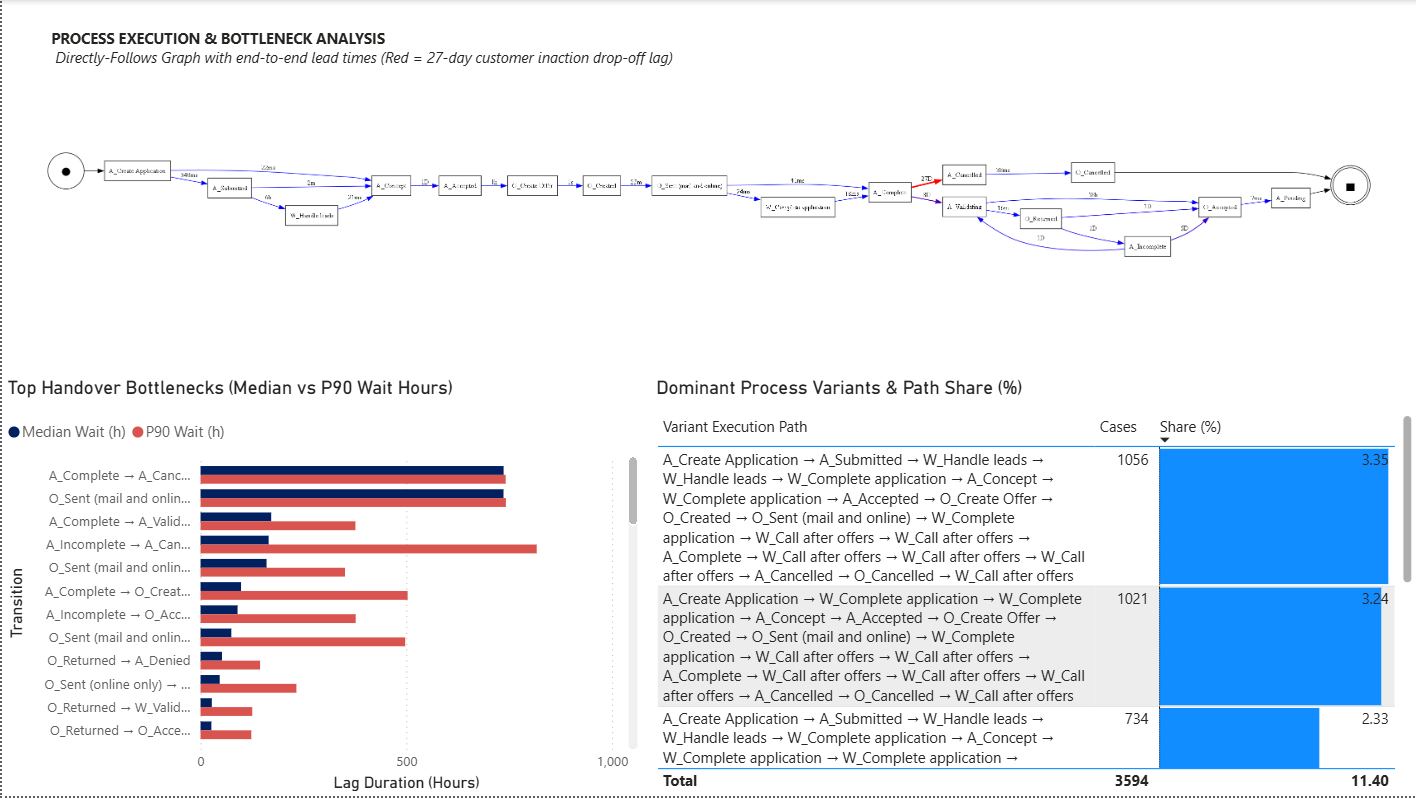

What the dashboard file says about the page in this screenshot:
{"tool":"powerbi","page":{"name":"Process Discovery & Flow","canvas":[1280,720],"ordinal":1},"visuals":[{"type":"image","box":[40,80,1200,210],"z":1000},{"type":"clusteredBarChart","title":"Top Handover Bottlenecks (Median vs P90 Wait Hours)","fields":{"Category":["process_bottlenecks.Transition"],"Y":["Sum(process_bottlenecks.Median_Wait_Hours)","Sum(process_bottlenecks.P90_Wait_Hours)"]},"box":[0,340,580,380],"z":1001},{"type":"tableEx","title":"Dominant Process Variants & Path Share (%)","fields":{"Values":["top_process_variants.Process_Path","Sum(top_process_variants.Cases)","Sum(top_process_variants.Share_of_All_Cases_%)"]},"box":[586.2,340,693.8,380],"z":1002},{"type":"textbox","box":[40,20,696.2,57.5],"z":1003}]}

Visuals, with their boxes in screenshot pixels (x1, y1, x2, y2), scaled from the page's 1280x720 canvas onto the 1416x799 screenshot:
image: x1=44, y1=89, x2=1372, y2=322
"Top Handover Bottlenecks (Median vs P90 Wait Hours)" clusteredBarChart: x1=0, y1=377, x2=642, y2=798
"Dominant Process Variants & Path Share (%)" tableEx: x1=648, y1=377, x2=1415, y2=798
textbox: x1=44, y1=22, x2=814, y2=86
